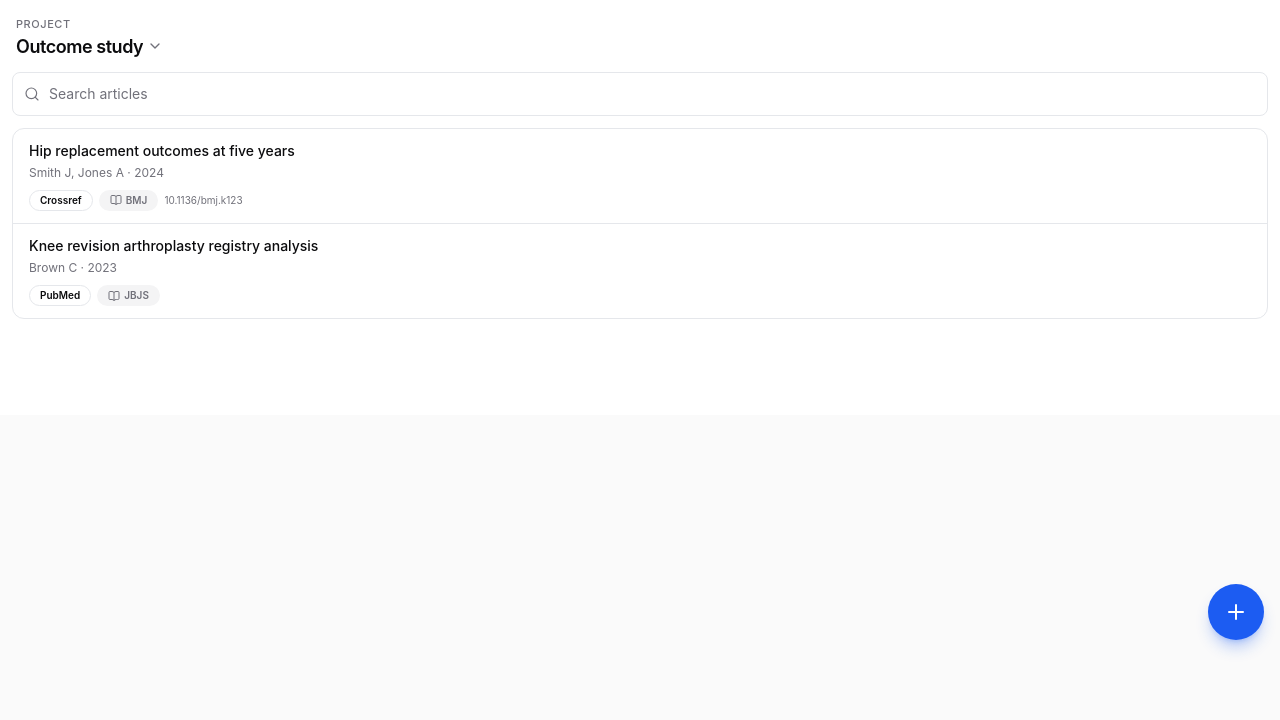
it: MobileLibrary › search filters the list down to matching rows
Expected: the button with test id "mlib-row-a-1" is shown, [13,128,1267,223]
Type "knee" into the search field with test id "mlib-search" at (640, 94), box [12,72,1268,116]
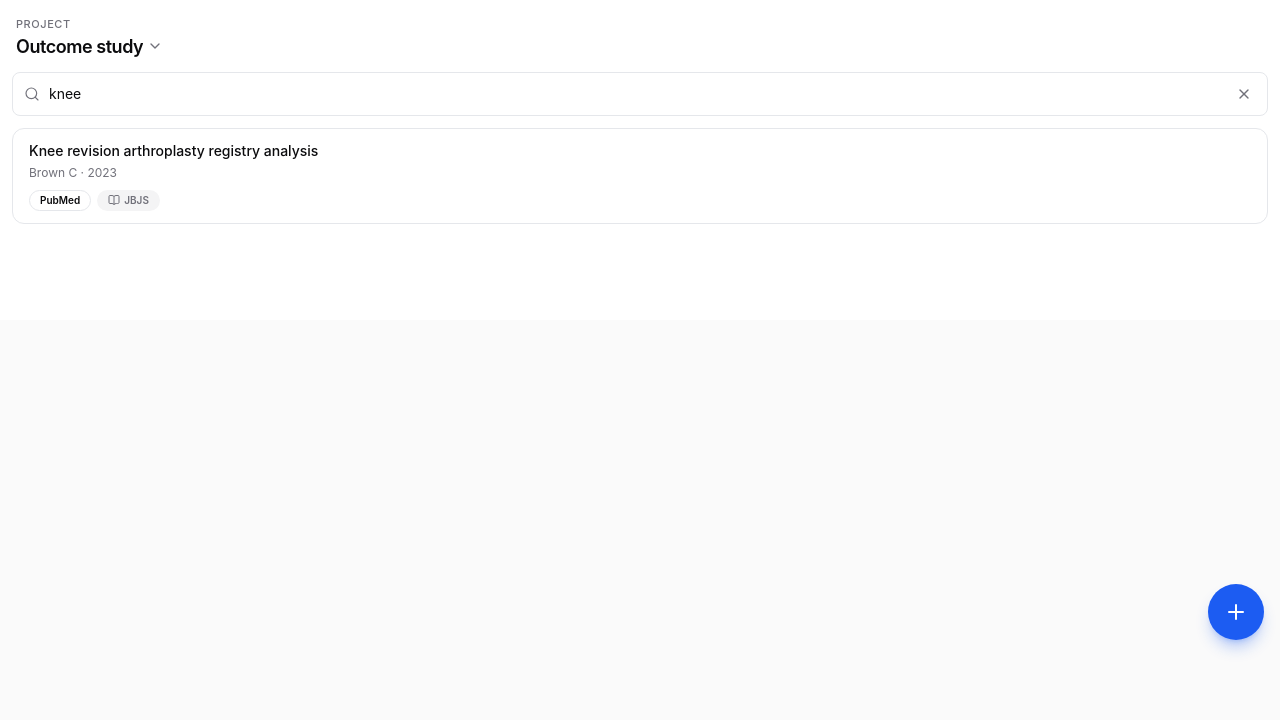
Expected: the button with test id "mlib-row-a-2" is shown, [13,128,1267,223]
Now the button with test id "mlib-row-a-1" is gone
